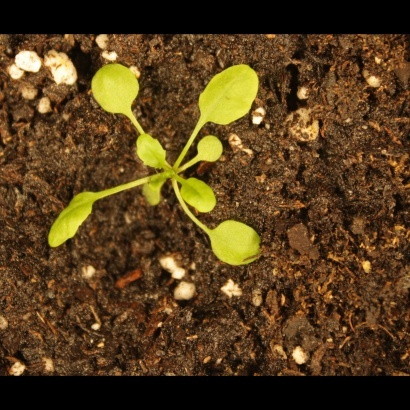leaf: (196, 60, 262, 128), (209, 213, 270, 277), (80, 60, 145, 118), (45, 190, 101, 250), (177, 173, 218, 218), (133, 128, 170, 172), (191, 134, 224, 165), (137, 180, 167, 209)
